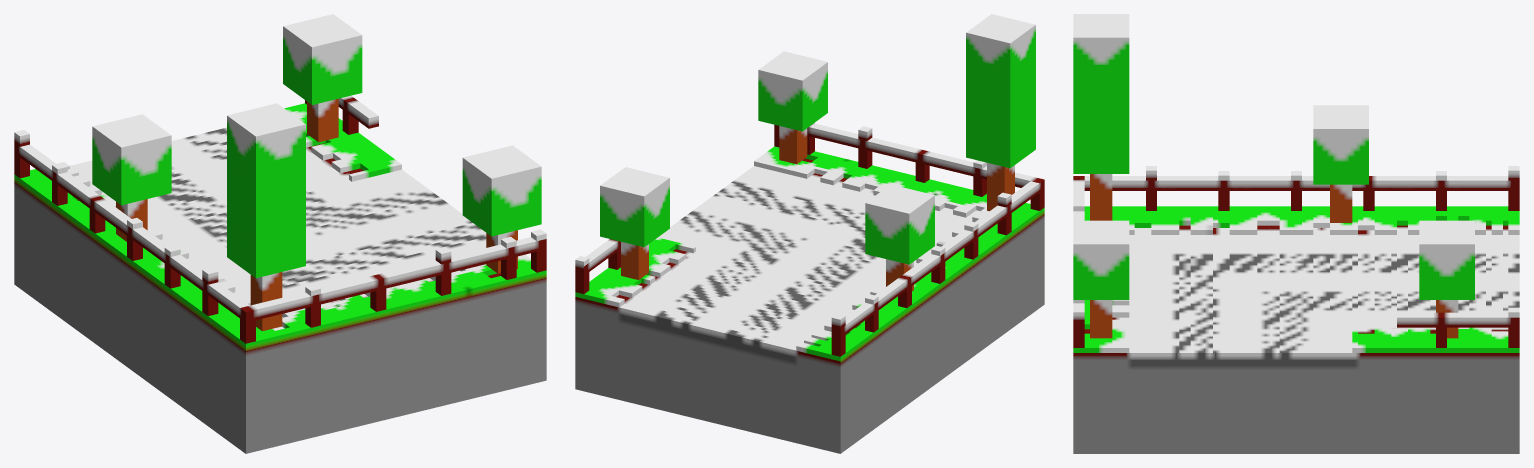
Rendered from LastFowardPlane.fbx.
3 views of the same model, side by side, from view 1: azimuth 30°, elevation 25°; view 2: azimuth 150°, elevation 25°; view 3: azimuth 270°, elevation 25° (orthographic). The views are drawn at different scales.
Parts seen in each view (by area): view 1: LastFowardPlane; view 2: LastFowardPlane; view 3: LastFowardPlane.
Boxes of the visible parts, x1,y1,x2,y2 form: LastFowardPlane: (14,14,546,453); LastFowardPlane: (575,14,1044,453); LastFowardPlane: (1073,14,1519,453).
Bounding box in the file's own units: 60 × 60 × 80.
Materials: 1 (1 with a texture image).
